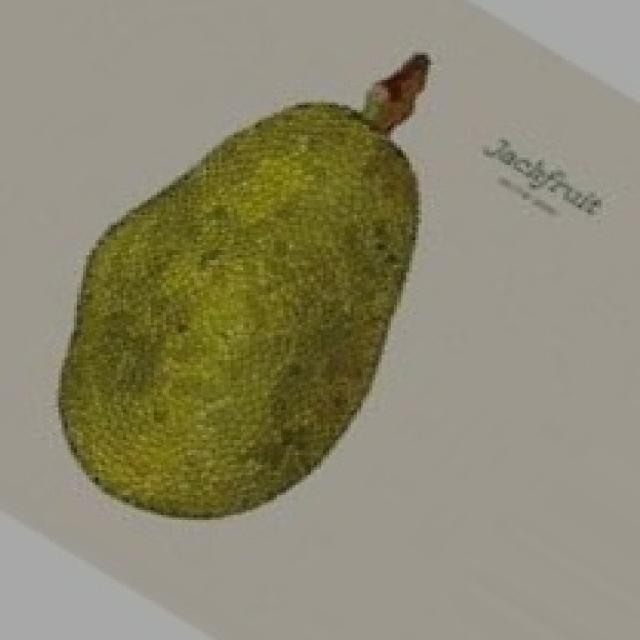Fruit: (34, 75, 461, 480)
